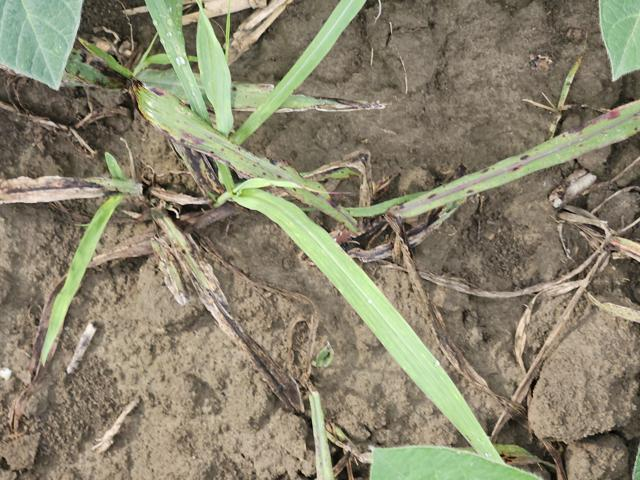bad weed: (112, 30, 613, 438)
